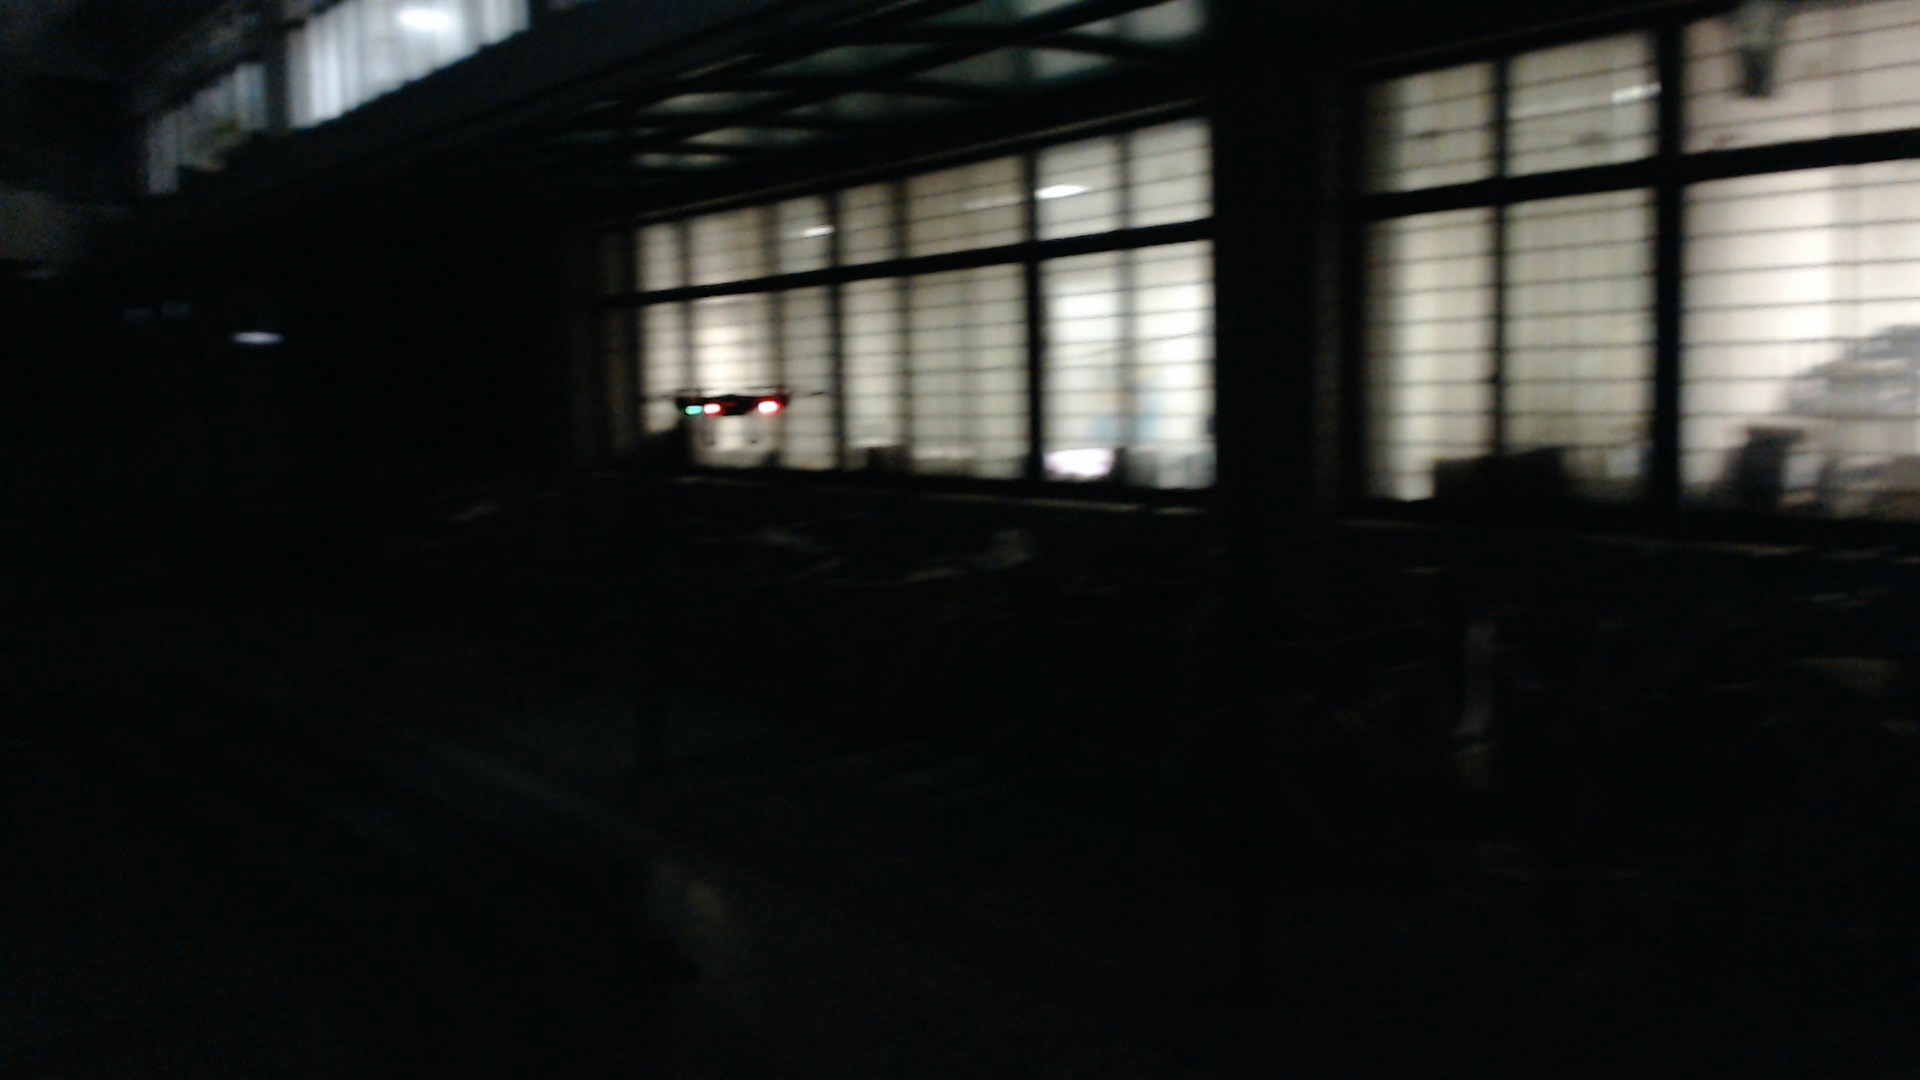test_drone: (640, 375, 818, 454)
